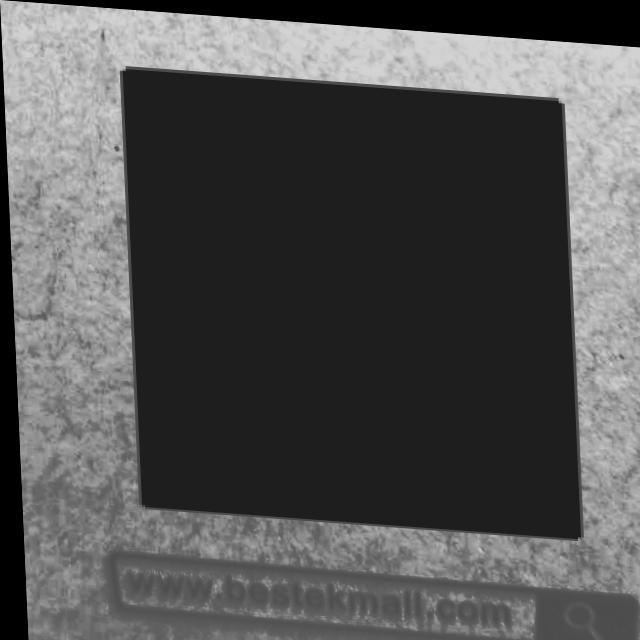qr_code: (122, 67, 576, 531)
